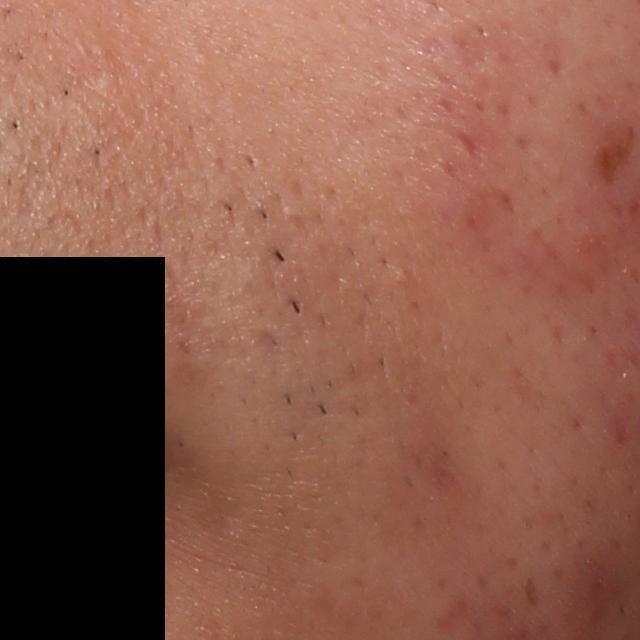atrophic_scar: (594, 125, 636, 187), (454, 127, 487, 164)
comedo: (391, 266, 412, 289)
